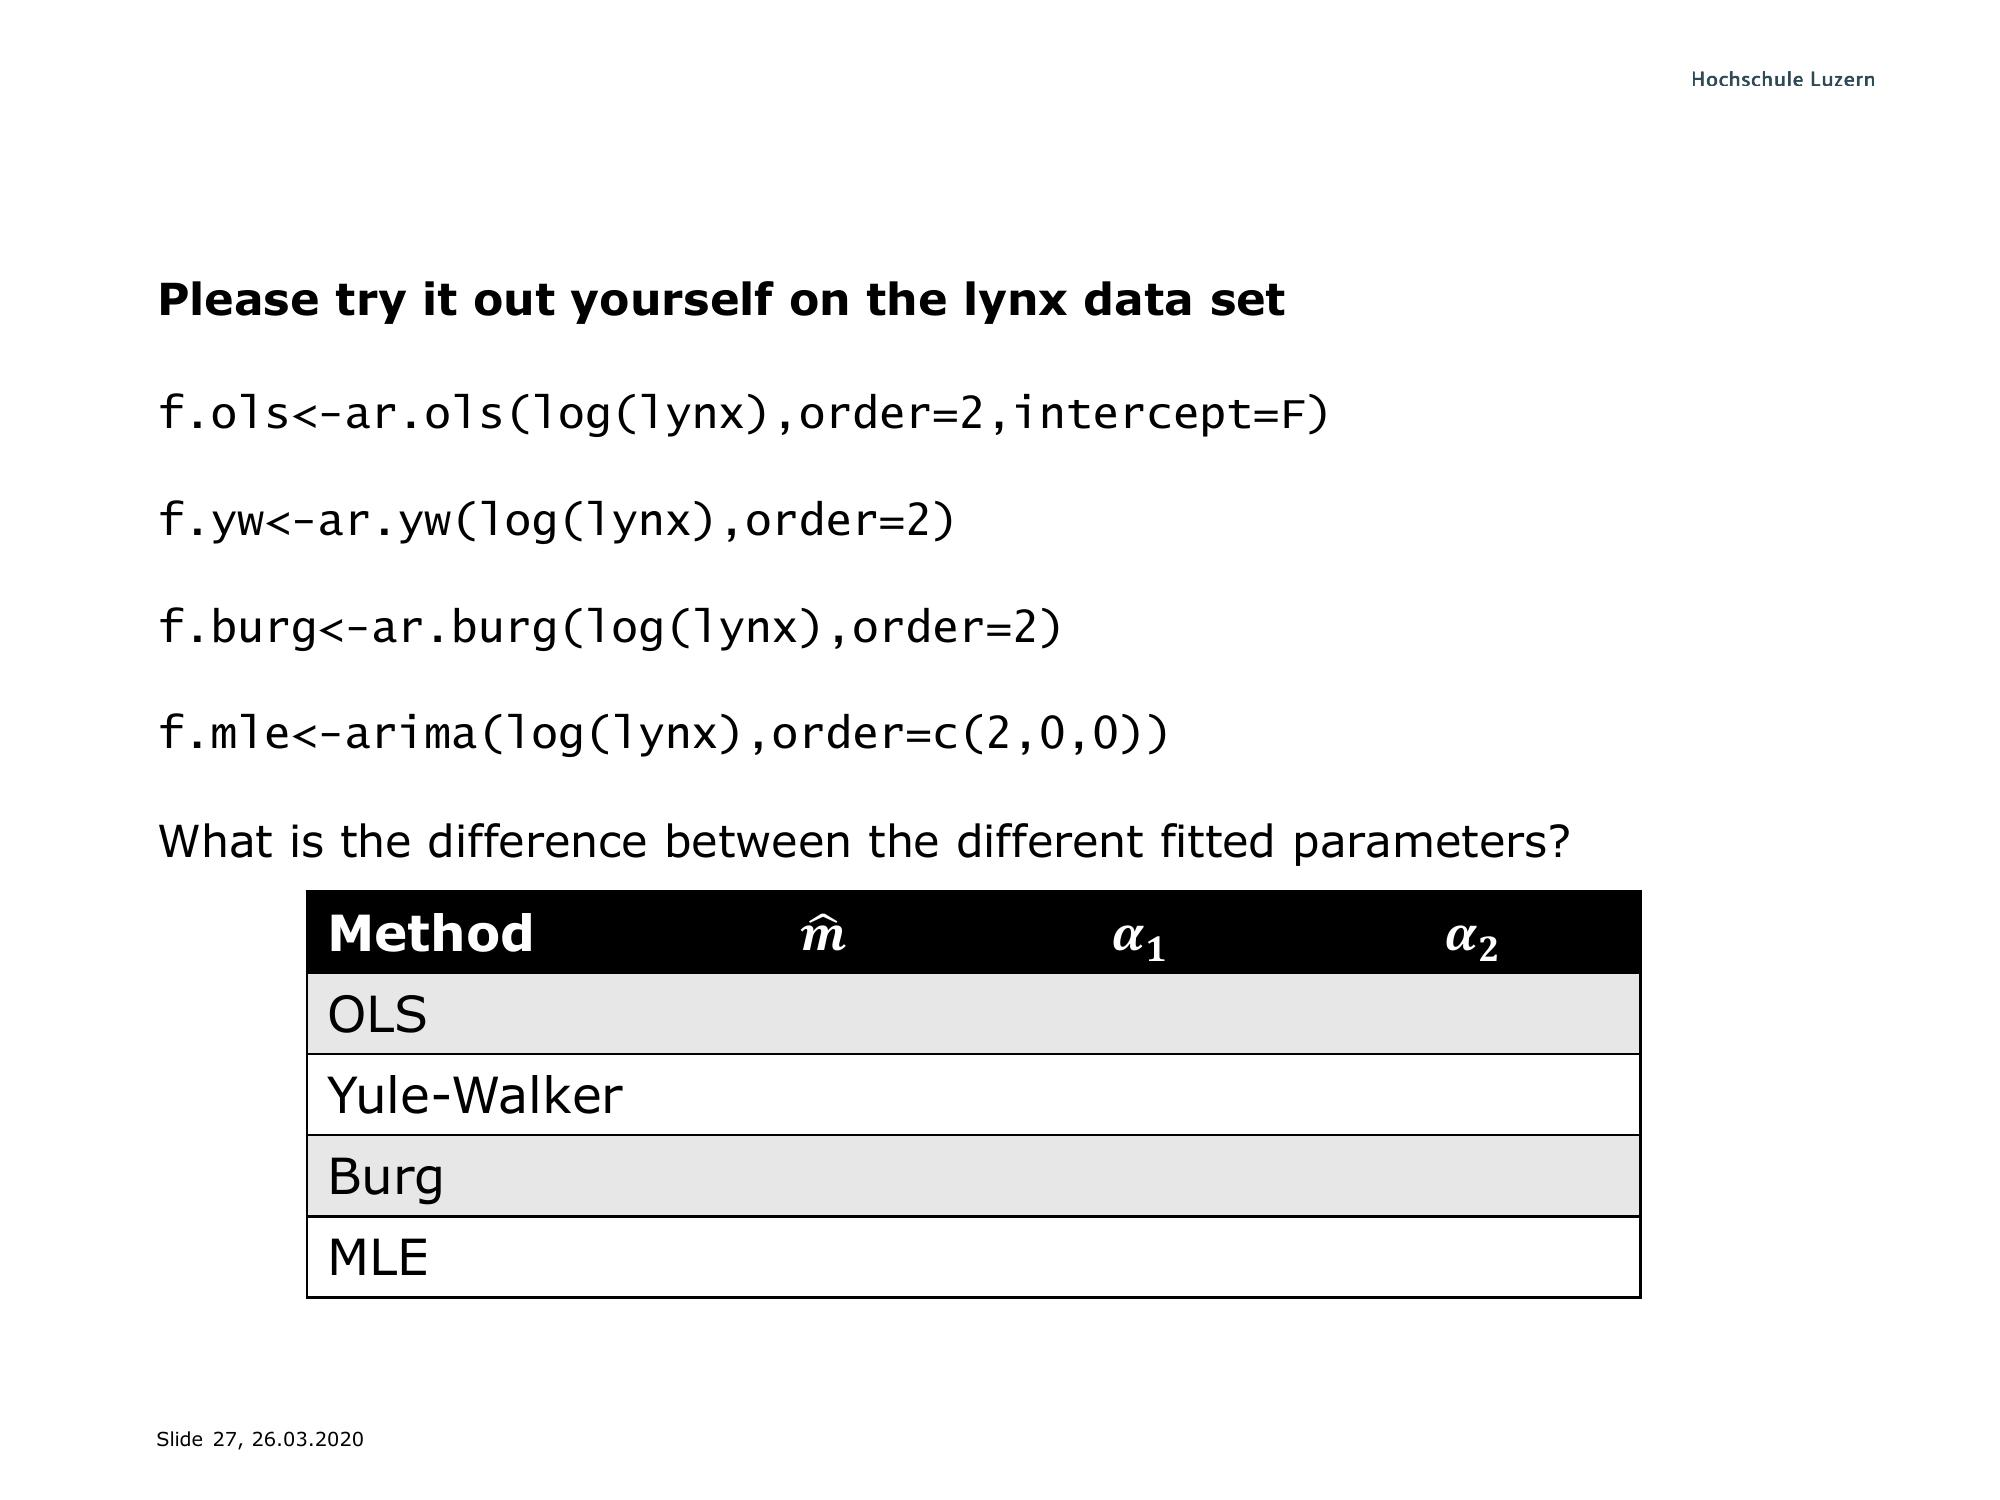Title: (135, 265, 1306, 336)
